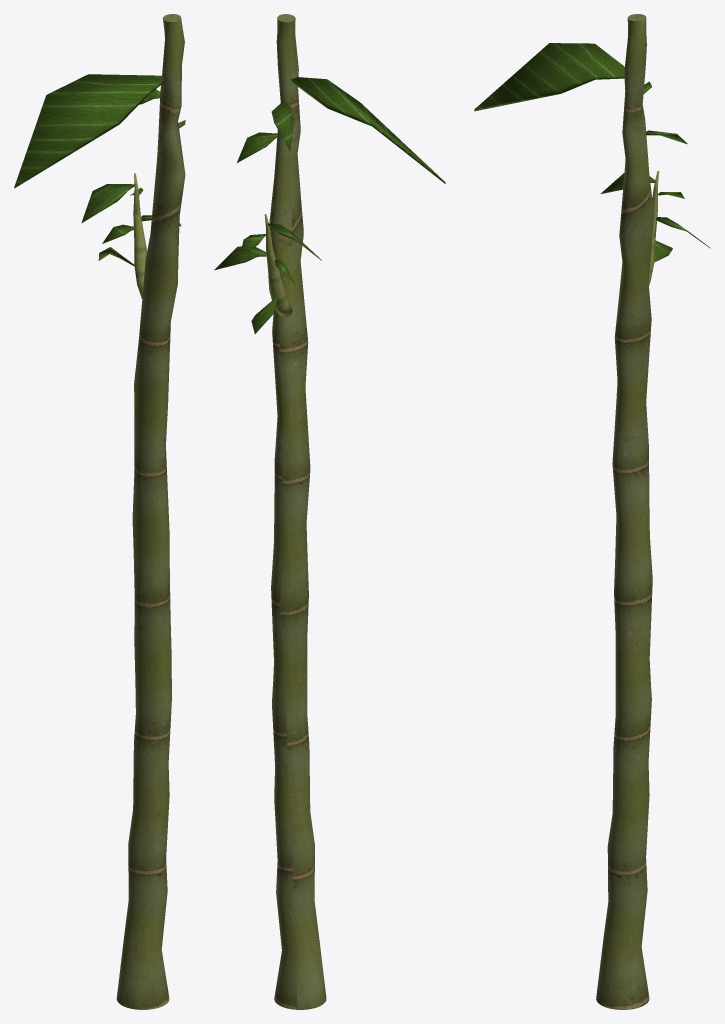
The model's file is Bamboo.fbx.
The picture shows the model from 3 angles, left to right: view 1: azimuth 30°, elevation 25°; view 2: azimuth 150°, elevation 25°; view 3: azimuth 330°, elevation 25°; orthographic projection. The views are drawn at different scales.
Visible parts, largest first — view 1: BambooBase, Leaf6, Branch, Leaf1; view 2: BambooBase, Leaf6, Branch, Leaf7, Leaf8, Leaf4; view 3: BambooBase, Leaf6.
Boxes of the visible parts, x1=… form: BambooBase: x1=116, y1=14, x2=185, y2=1009; Leaf6: x1=14, y1=74, x2=163, y2=188; Branch: x1=133, y1=173, x2=147, y2=298; Leaf1: x1=81, y1=184, x2=134, y2=222; BambooBase: x1=269, y1=14, x2=326, y2=1009; Leaf6: x1=291, y1=77, x2=445, y2=183; Branch: x1=264, y1=214, x2=292, y2=316; Leaf7: x1=271, y1=102, x2=293, y2=151; Leaf8: x1=237, y1=132, x2=277, y2=162; Leaf4: x1=214, y1=246, x2=266, y2=270; BambooBase: x1=596, y1=14, x2=654, y2=1009; Leaf6: x1=474, y1=43, x2=624, y2=111.
Size of the model in its own units: 1139 by 5326 by 629.
